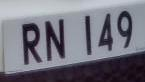1: (79, 10, 98, 59)
4: (94, 10, 117, 56)
9: (115, 4, 137, 54)
N: (43, 14, 72, 66)
R: (16, 18, 44, 68)
